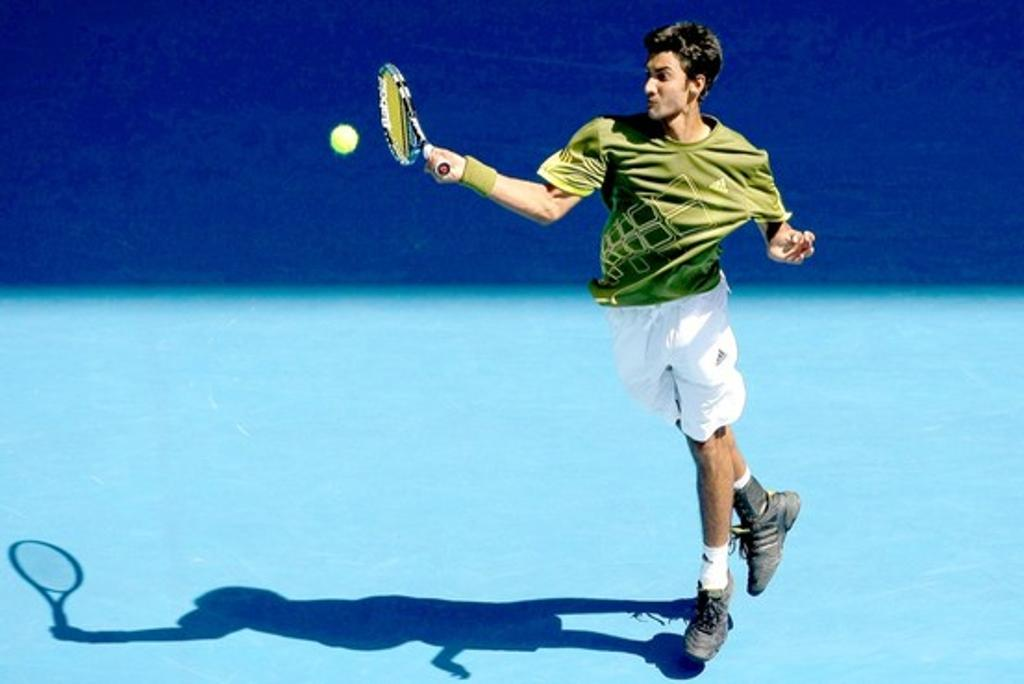face: (638, 50, 690, 124)
